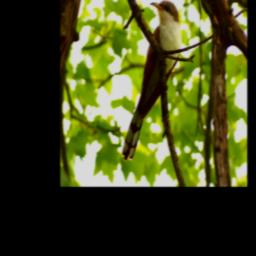Cuckoo: (122, 0, 182, 163)
